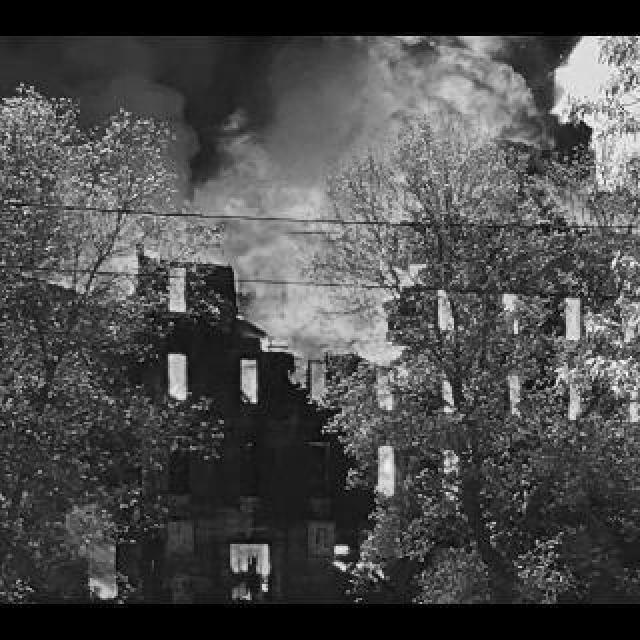Fire: (36, 48, 614, 472)
